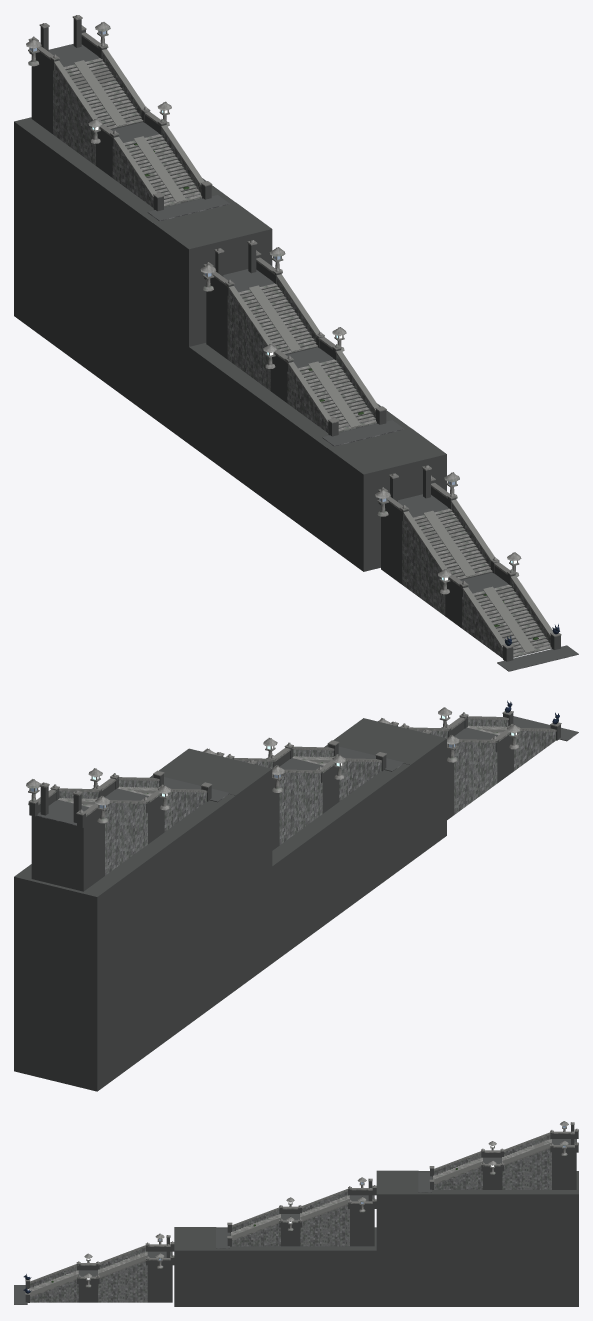
The model's file is prop_stairs_tall.gltf.
3 views of the same model, one above another, from view 1: azimuth 30°, elevation 25°; view 2: azimuth 150°, elevation 25°; view 3: azimuth 270°, elevation 25° (orthographic). The views are drawn at different scales.
Visible parts, largest first — view 1: Far, Near; view 2: Far, Near; view 3: Far, Near.
Boxes of the visible parts, left/top/right/bottom form: Far: left=14, top=15, right=578, bottom=670; Near: left=26, top=15, right=578, bottom=671; Far: left=14, top=707, right=578, bottom=1091; Near: left=26, top=700, right=578, bottom=875; Far: left=14, top=1121, right=578, bottom=1306; Near: left=14, top=1121, right=578, bottom=1304.
Size of the model in its own units: 8.09 by 26.96 by 81.96.
Materials: 8 (5 with a texture image).
